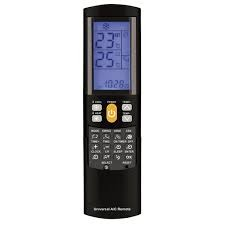remote control: (84, 5, 142, 219)
